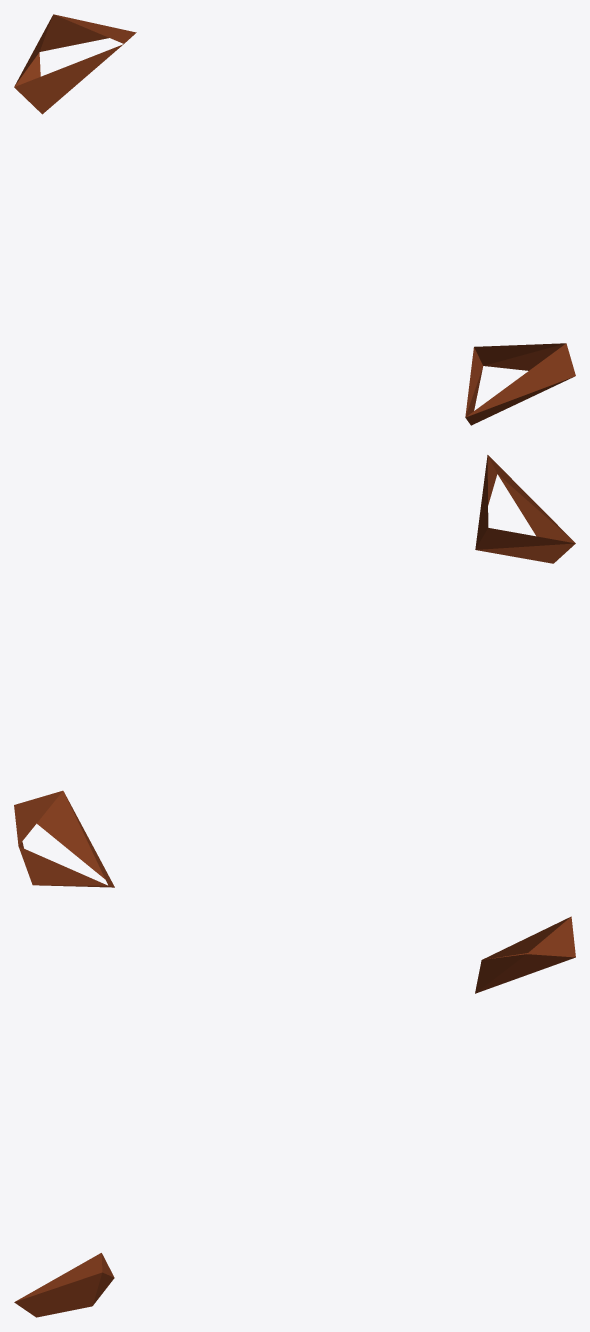
Rendered from bogie_right_104.dae.
The picture shows the model from 3 angles, top to bottom: view 1: azimuth 30°, elevation 25°; view 2: azimuth 150°, elevation 25°; view 3: azimuth 330°, elevation 25°; orthographic projection. The views are drawn at different scales.
Parts seen in each view (by area): view 1: node; view 2: node; view 3: node.
Part boxes in pixels (bbox=[...]): node: bbox=[14, 14, 575, 425]; node: bbox=[14, 455, 575, 887]; node: bbox=[14, 916, 575, 1317].
Bounding box in the file's own units: 0.00717 × 0.0571 × 0.00478.
